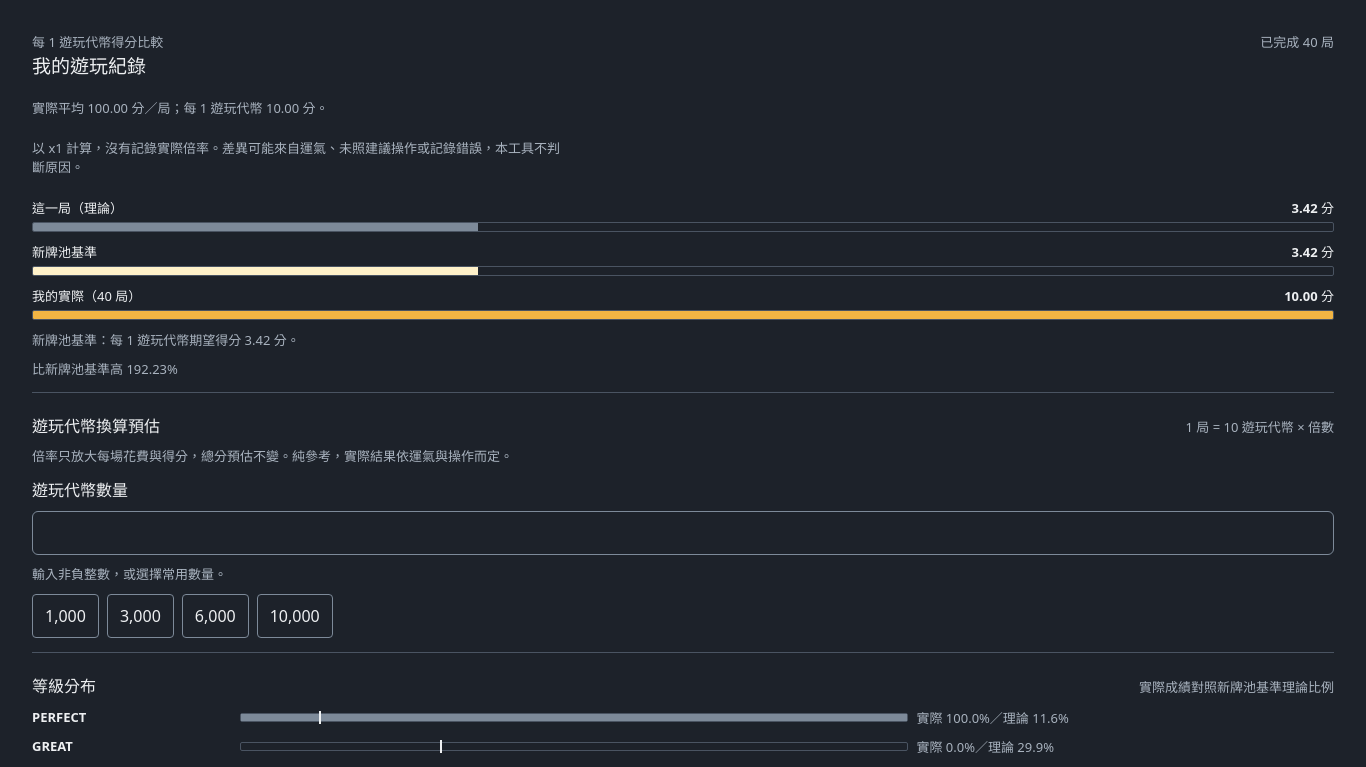
Test case: PlayHistoryReference › uses the fixed 6000-token amount, reports 600 x1 rounds and compares both estimates
Click the button named "填入 6,000 遊玩代幣" at x=215, y=616, box [182,594,249,638]
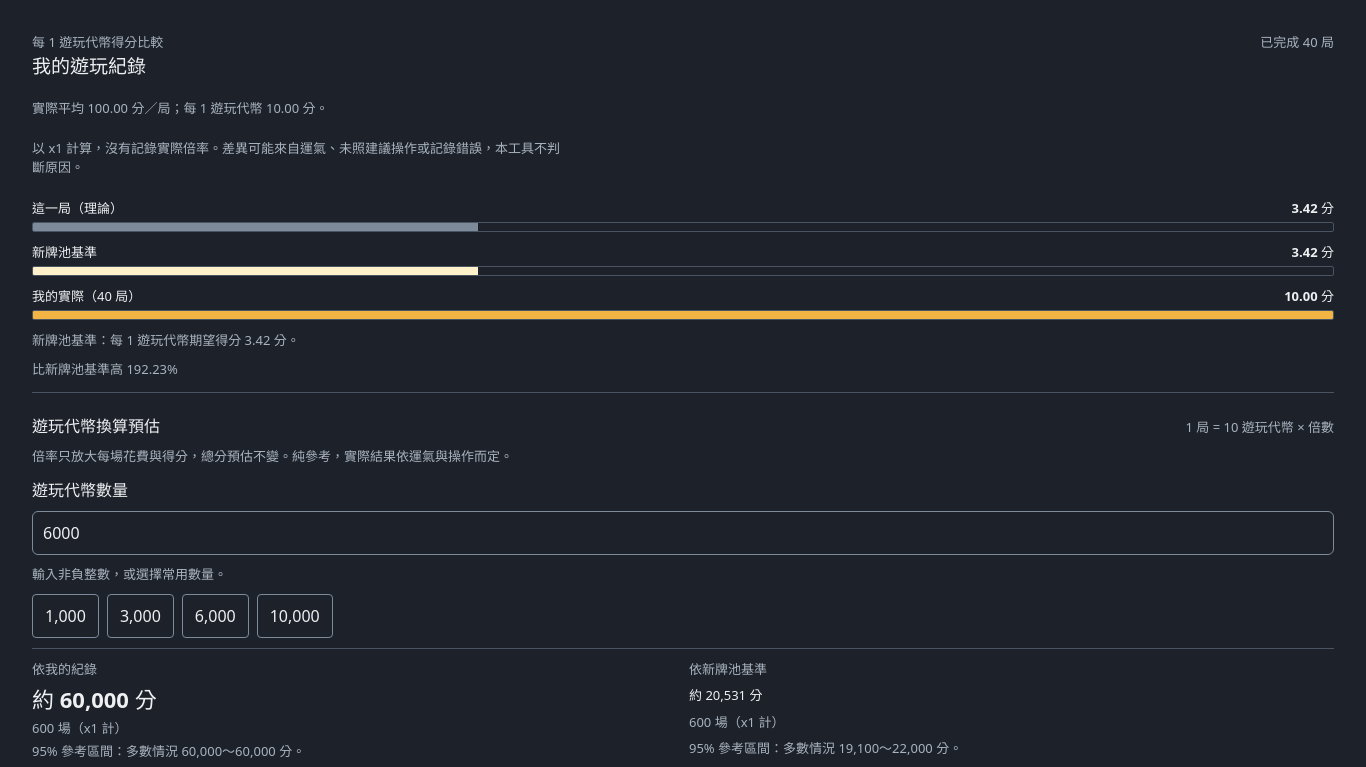
Result: the field with test id "play-token-count" holds "6000" at [32,510,1334,554]
Result: the text with test id "my-token-total" reads "約 60,000 分" at [32,684,157,714]
Result: the text with test id "baseline-token-total" reads "約 20,531 分" at [689,686,762,704]
